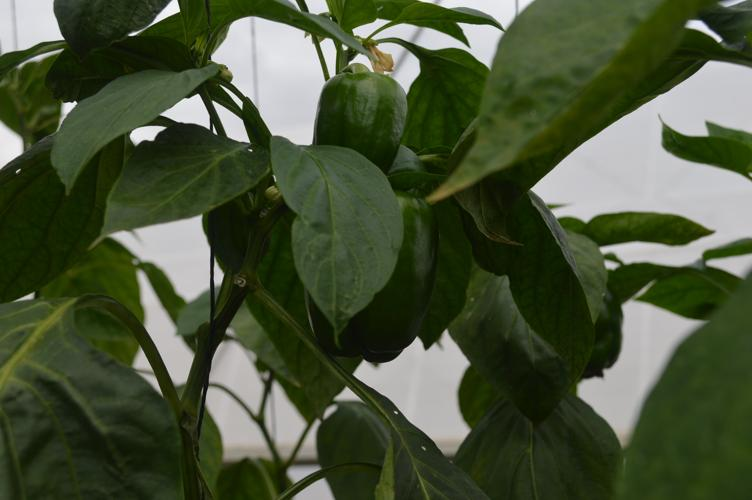BellPepper: (302, 189, 443, 360), (313, 72, 408, 173)
